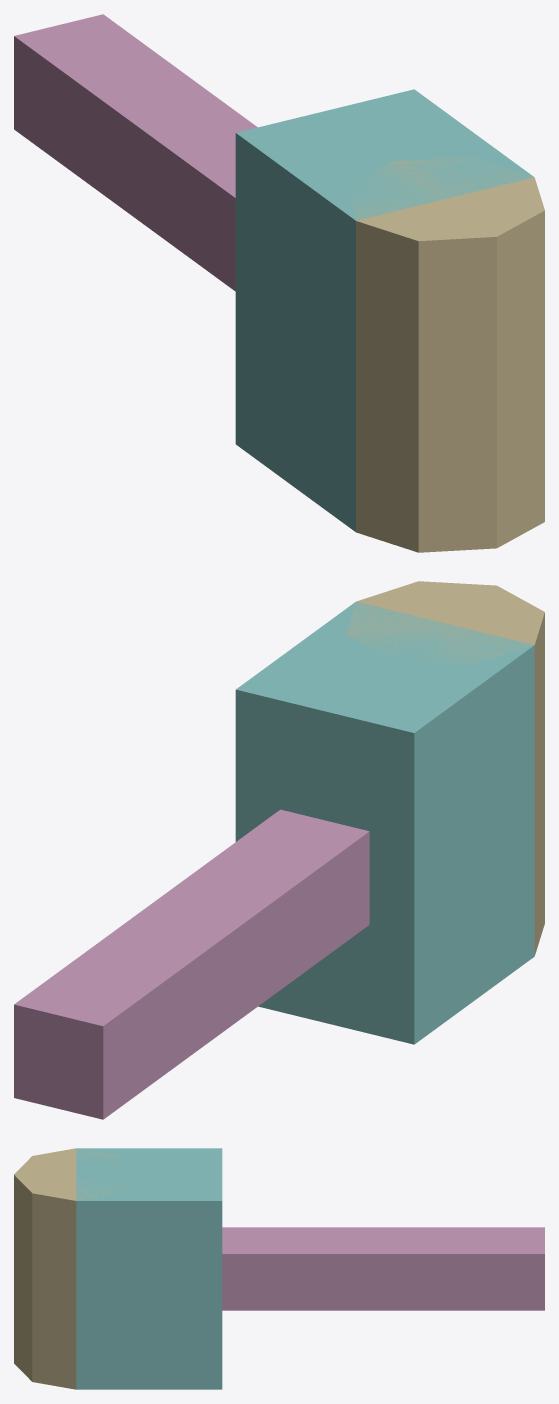
The picture shows the model from 3 angles, top to bottom: view 1: azimuth 30°, elevation 25°; view 2: azimuth 150°, elevation 25°; view 3: azimuth 270°, elevation 25°; orthographic projection. The views are drawn at different scales.
Parts seen in each view (by area): view 1: part2, part1, part0; view 2: part1, part0, part2; view 3: part1, part0, part2.
Boxes of the visible parts, x1,y1,x2,y2 form: part2: (349, 157, 544, 552); part1: (235, 89, 533, 531); part0: (14, 14, 257, 291); part1: (235, 601, 534, 1044); part0: (14, 809, 369, 1119); part2: (346, 581, 544, 955); part1: (76, 1148, 222, 1389); part0: (222, 1227, 544, 1310); part2: (14, 1148, 125, 1389).
Size of the model in its own units: 0.6 by 1 by 2.55.
